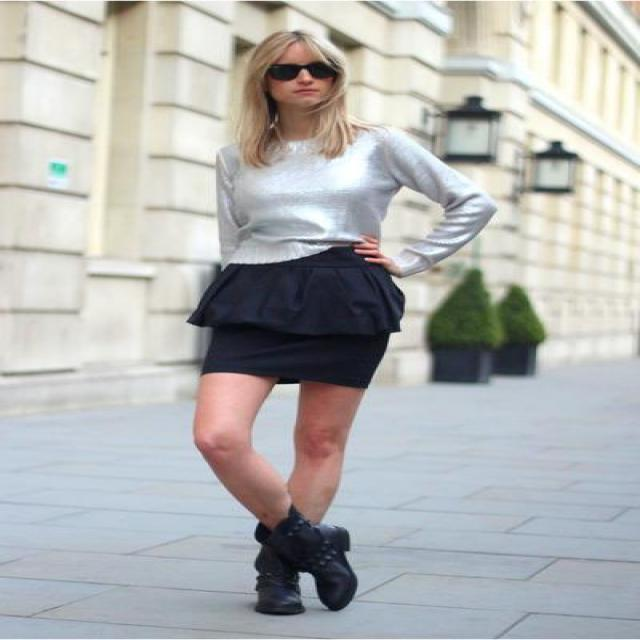shirt: (196, 118, 494, 294)
shoe: (254, 506, 356, 610)
skirt: (187, 243, 405, 388)
sunglass: (264, 62, 325, 84)
